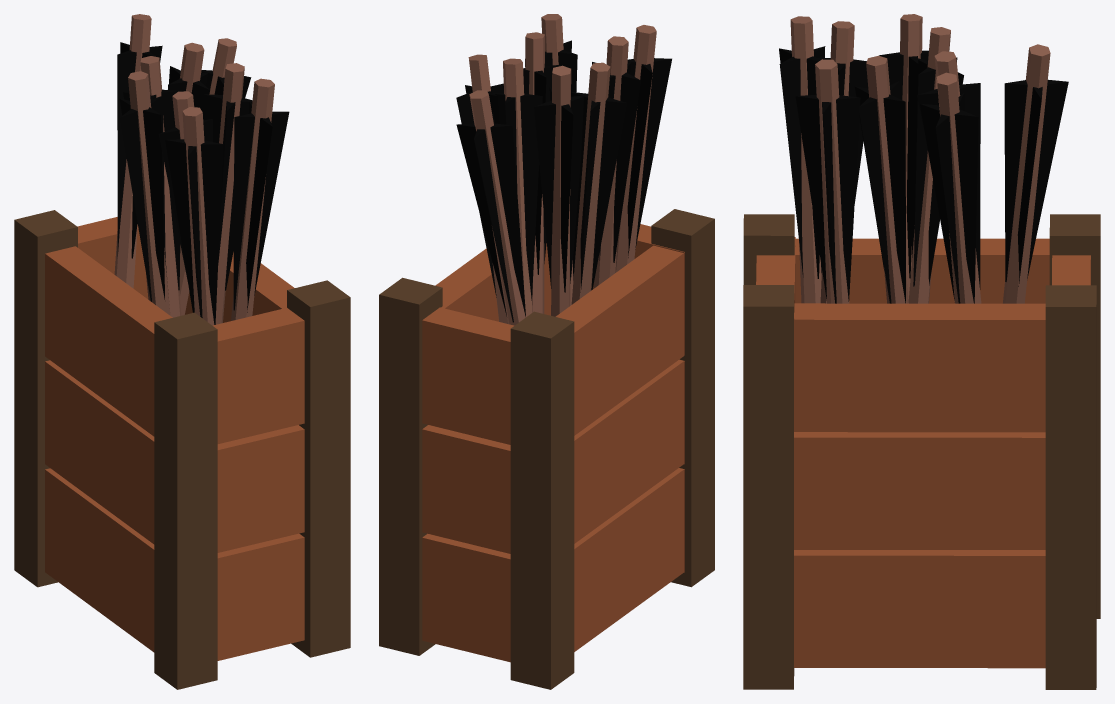
The model's file is ArrowHolder.fbx.
The picture shows the model from 3 angles, left to right: view 1: azimuth 30°, elevation 25°; view 2: azimuth 150°, elevation 25°; view 3: azimuth 270°, elevation 25°; orthographic projection. The views are drawn at different scales.
Visible parts, largest first — view 1: ArrowHolder, Arrows; view 2: ArrowHolder, Arrows; view 3: ArrowHolder, Arrows.
Boxes of the visible parts, <box> form: ArrowHolder: <box>14,210,350,689</box>; Arrows: <box>114,14,289,325</box>; ArrowHolder: <box>379,209,714,689</box>; Arrows: <box>456,14,671,325</box>; ArrowHolder: <box>743,214,1100,689</box>; Arrows: <box>779,14,1068,303</box>.
Size of the model in its own units: 220 by 666 by 359.
